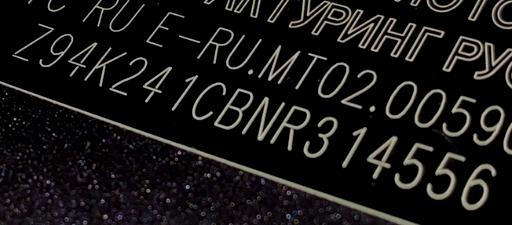letter: (394, 141, 434, 190), (426, 151, 466, 199), (241, 96, 285, 139), (270, 104, 310, 151), (212, 87, 254, 130), (10, 21, 54, 62), (461, 162, 497, 210), (84, 47, 126, 86), (108, 56, 148, 96), (302, 116, 338, 159), (190, 80, 226, 121), (336, 124, 370, 167), (367, 135, 401, 178), (140, 64, 174, 103), (38, 32, 74, 67), (66, 39, 98, 76), (168, 73, 198, 111)
